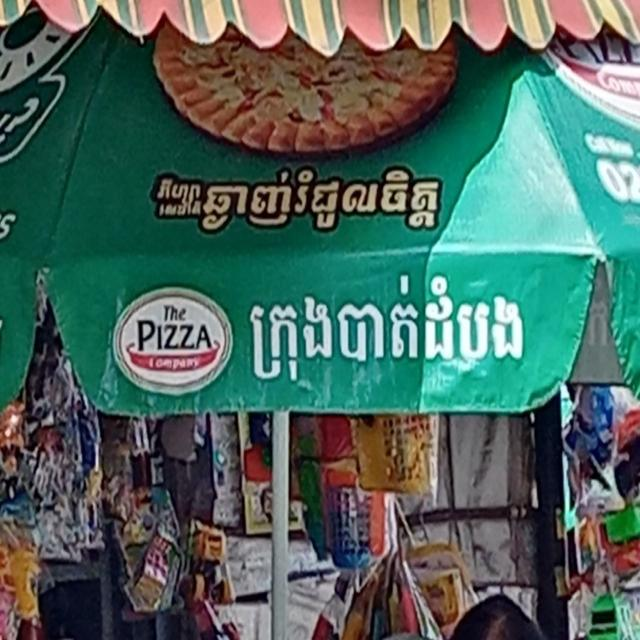Yolov11_80vkh: (230, 267, 552, 403), (188, 147, 485, 267)
